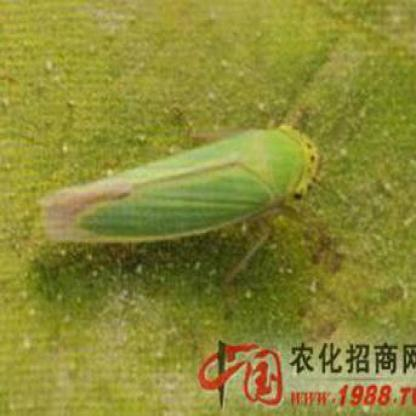Green-Leafhopper: (36, 113, 325, 292)
